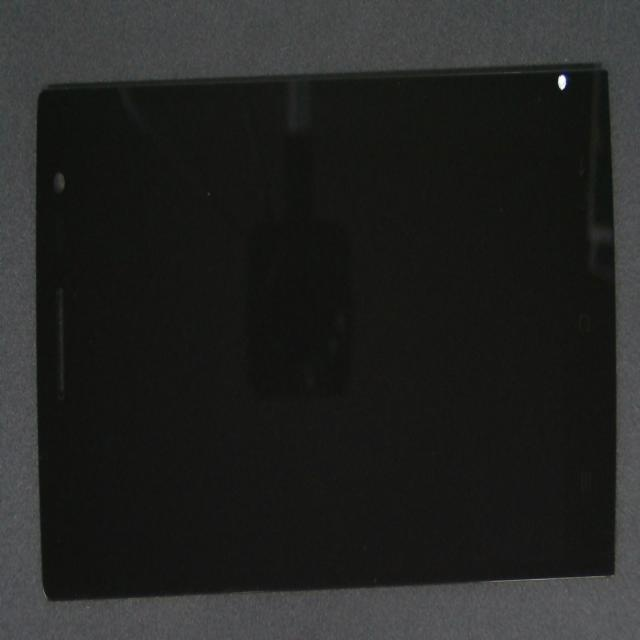stain: (284, 67, 640, 201)
